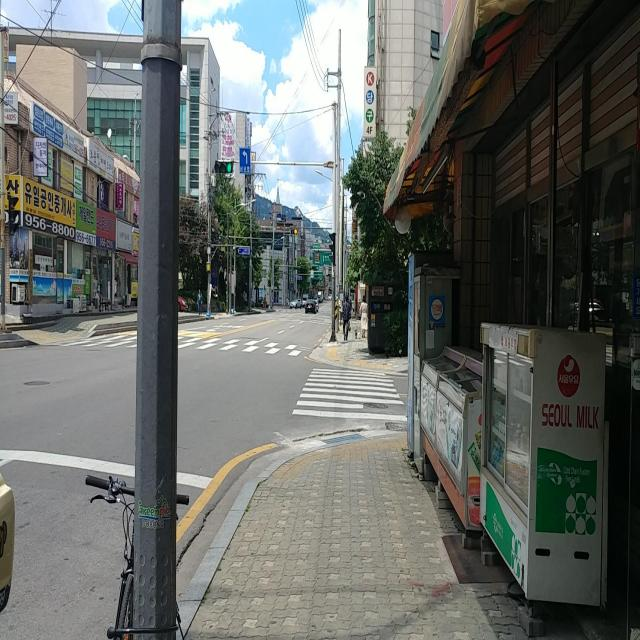횡단보도: (291, 367, 408, 422), (73, 334, 310, 349)
